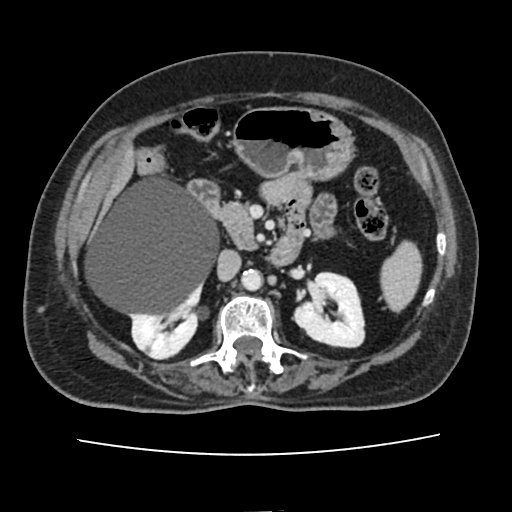aorta: (240, 264, 269, 292)
